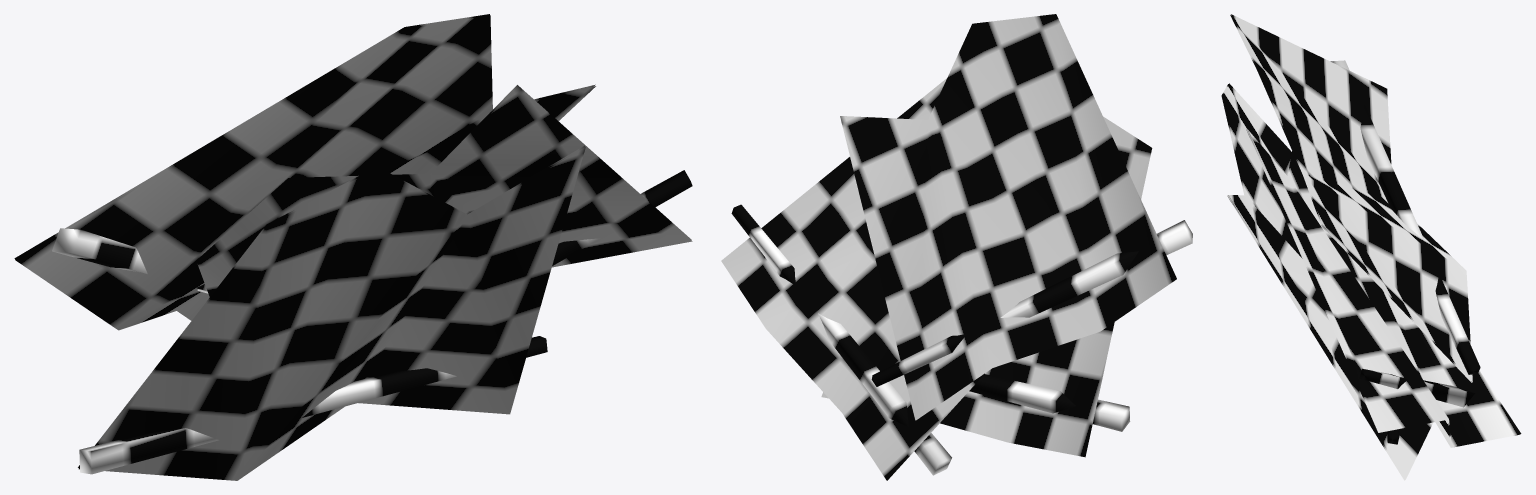
The model's file is initqu49.dae.
3 renders of one model, left to right at view 1: azimuth 30°, elevation 25°; view 2: azimuth 150°, elevation 25°; view 3: azimuth 270°, elevation 25°, orthographic. The views are drawn at different scales.
Visible parts, largest first — view 1: item; view 2: item; view 3: item.
Part boxes in pixels (x1=…): item: x1=14, y1=14, x2=692, y2=480; item: x1=721, y1=14, x2=1192, y2=480; item: x1=1221, y1=14, x2=1521, y2=480.
Size of the model in its own units: 1.73 by 0.9138 by 1.35.
1 material, 1 textured.
